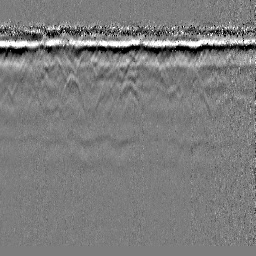cavity: (118, 79, 139, 101)
